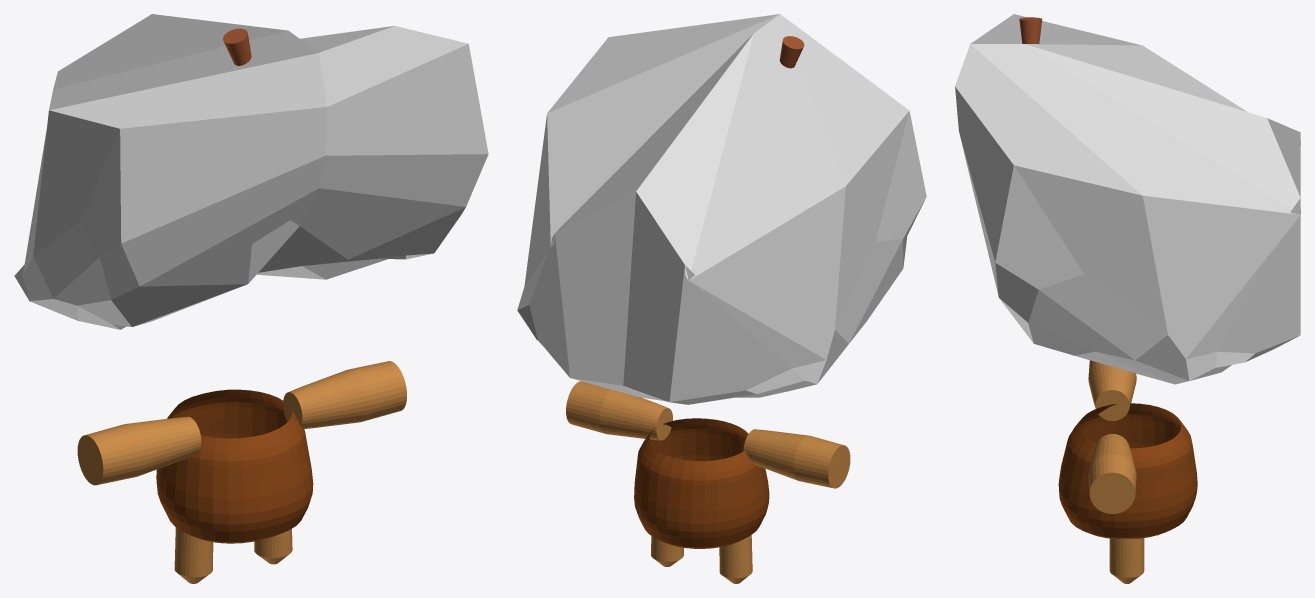
The model's file is 0140_tory.gltf.
The picture shows the model from 3 angles, left to right: view 1: azimuth 30°, elevation 25°; view 2: azimuth 150°, elevation 25°; view 3: azimuth 270°, elevation 25°; orthographic projection. The views are drawn at different scales.
Parts seen in each view (by area): view 1: cap, body, right_arm, left_arm, leg; view 2: cap, body, right_arm, left_arm, leg; view 3: cap, body, left_arm, right_arm, leg.
Part boxes in pixels (box(x1,y1,x2,y2)): cap: box(14, 14, 488, 329); body: box(156, 389, 313, 543); right_arm: box(77, 416, 201, 485); left_arm: box(283, 361, 406, 428); leg: box(174, 527, 292, 583); cap: box(517, 14, 926, 404); body: box(634, 418, 769, 548); right_arm: box(743, 429, 850, 488); left_arm: box(566, 381, 672, 440); leg: box(651, 535, 752, 583); cap: box(955, 14, 1300, 384); body: box(1058, 403, 1197, 538); left_arm: box(1088, 434, 1136, 513); right_arm: box(1088, 360, 1136, 420); leg: box(1109, 538, 1144, 583).
Bounding box in the file's own units: 2.71 × 4.17 × 2.48.
